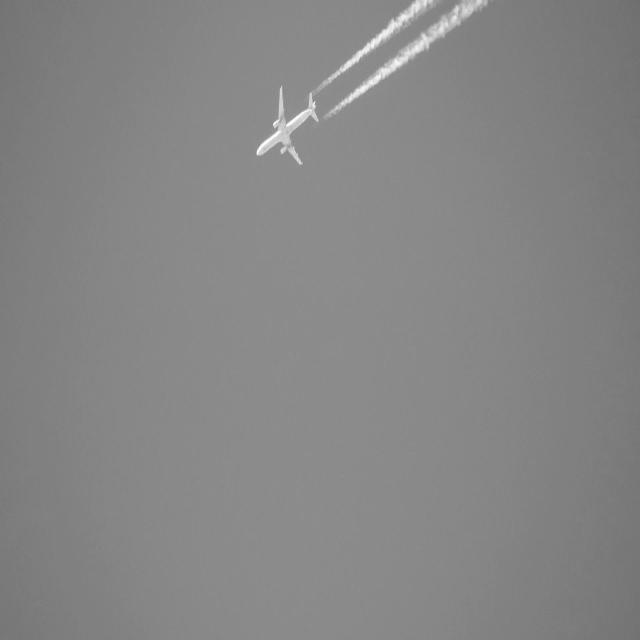aeroplane: (250, 78, 324, 174)
